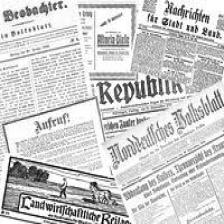paper: (9, 99, 104, 224), (0, 0, 88, 126), (108, 133, 224, 224), (123, 4, 224, 88)
